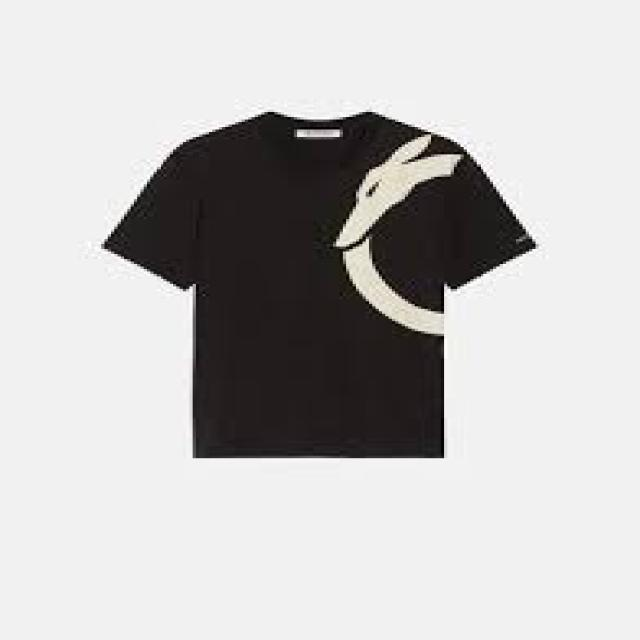shirt: (107, 111, 536, 457)
